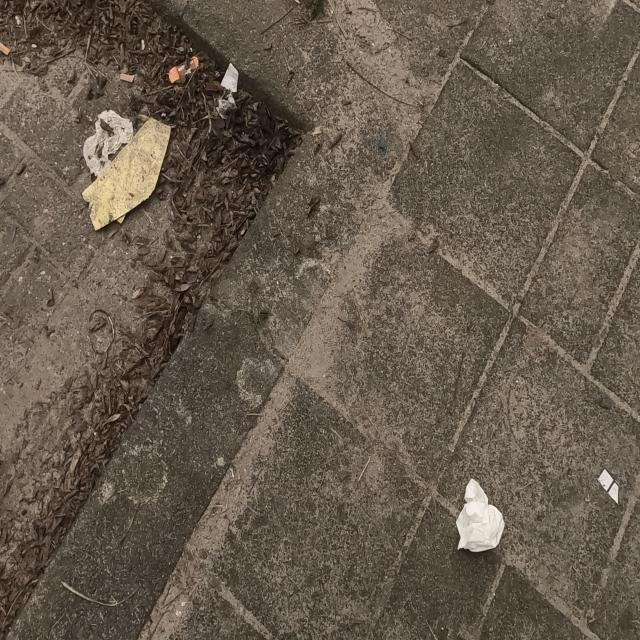Paper: (82, 116, 172, 232), (456, 477, 506, 553), (83, 108, 134, 178)
